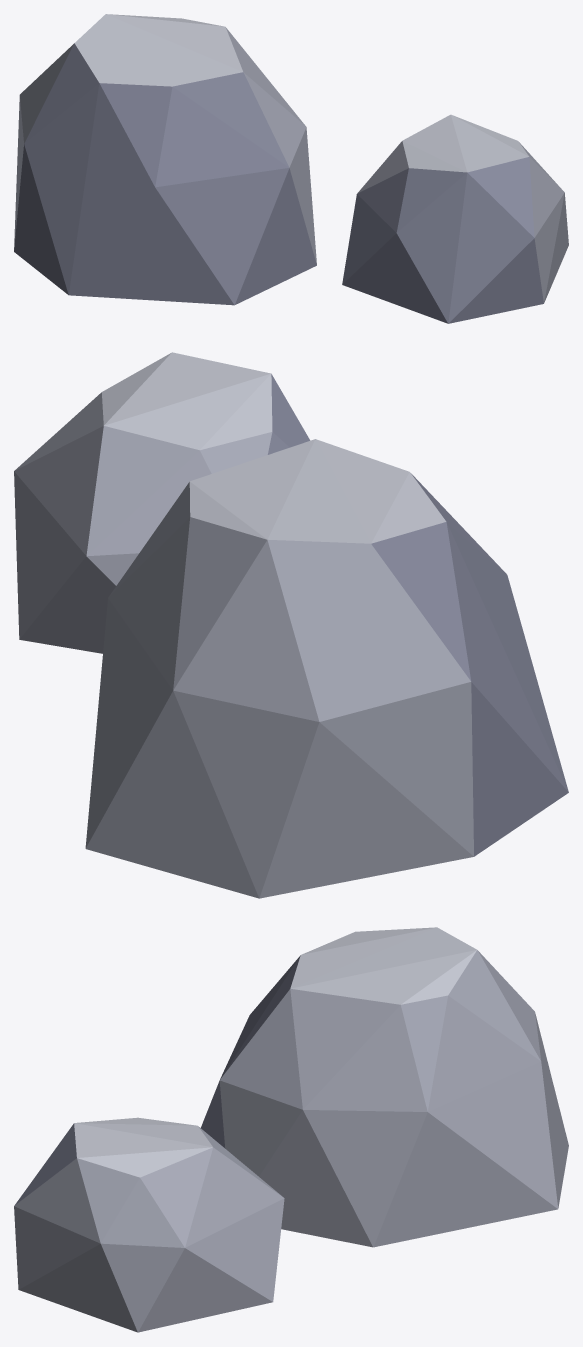
File: stone_smallG.glb
3 views of the same model, one above another, from view 1: azimuth 30°, elevation 25°; view 2: azimuth 150°, elevation 25°; view 3: azimuth 270°, elevation 25° (orthographic). The views are drawn at different scales.
Parts seen in each view (by area): view 1: stone_smallG; view 2: stone_smallG; view 3: stone_smallG.
Boxes of the visible parts, x1,y1,x2,y2 form: stone_smallG: [14, 14, 568, 323]; stone_smallG: [14, 352, 568, 898]; stone_smallG: [14, 927, 568, 1332].
Bounding box in the file's own units: 0.5606 × 0.2442 × 0.5705.
Materials: 1 (1 with a texture image).
